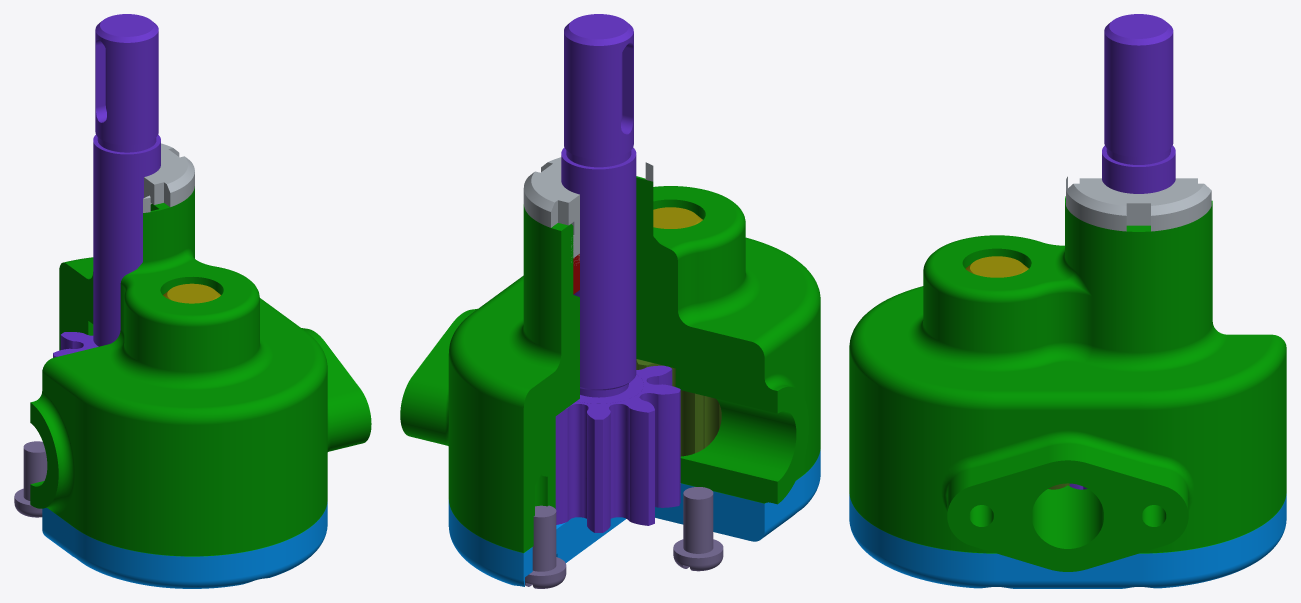
File: 118_asm1.glb
3 renders of one model, left to right at view 1: azimuth 30°, elevation 25°; view 2: azimuth 150°, elevation 25°; view 3: azimuth 270°, elevation 25°, orthographic. The views are drawn at different scales.
Visible parts, largest first — view 1: 1fati, 6chilunzhou, 3benggai, 8yagai, 9luoding002, 2zhou; view 2: 1fati, 6chilunzhou, 3benggai, 8yagai, 9luoding002, 7chilun, 9luoding, 2zhou; view 3: 1fati, 3benggai, 6chilunzhou, 8yagai, 2zhou.
Boxes of the visible parts, x1,y1,x2,y2 form: 1fati: [30, 186, 371, 556]; 6chilunzhou: [53, 14, 160, 357]; 3benggai: [42, 502, 327, 588]; 8yagai: [143, 143, 194, 212]; 9luoding002: [14, 441, 47, 517]; 2zhou: [163, 283, 220, 303]; 1fati: [400, 176, 820, 552]; 6chilunzhou: [555, 14, 680, 532]; 3benggai: [448, 449, 820, 586]; 8yagai: [523, 157, 653, 265]; 9luoding002: [673, 487, 723, 571]; 7chilun: [636, 359, 721, 456]; 9luoding: [525, 505, 566, 588]; 2zhou: [653, 207, 702, 228]; 1fati: [849, 196, 1286, 571]; 3benggai: [849, 494, 1286, 588]; 6chilunzhou: [1069, 14, 1175, 489]; 8yagai: [1066, 176, 1211, 231]; 2zhou: [965, 256, 1028, 277].
Size of the model in its own units: 0.073 by 0.1132 by 0.0887.
